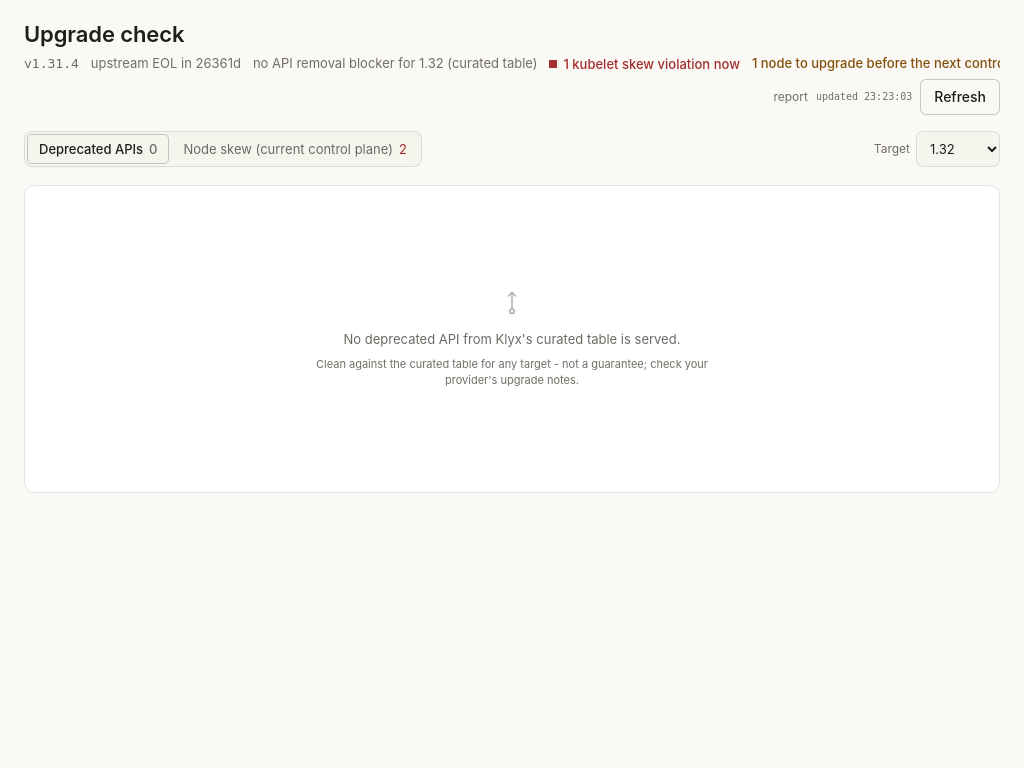
Test case: UpgradeView (redesign step 5) › skew findings list nodes, violations first, with an Open node action
The image size is (1024, 768).
expect the text "1 kubelet skew violation now" is shown: met, box top-left (564, 55), bottom-right (740, 73)
Click the button "Node skew (current control plane) 2" at (295, 149), box top-left (171, 134), bottom-right (419, 164)
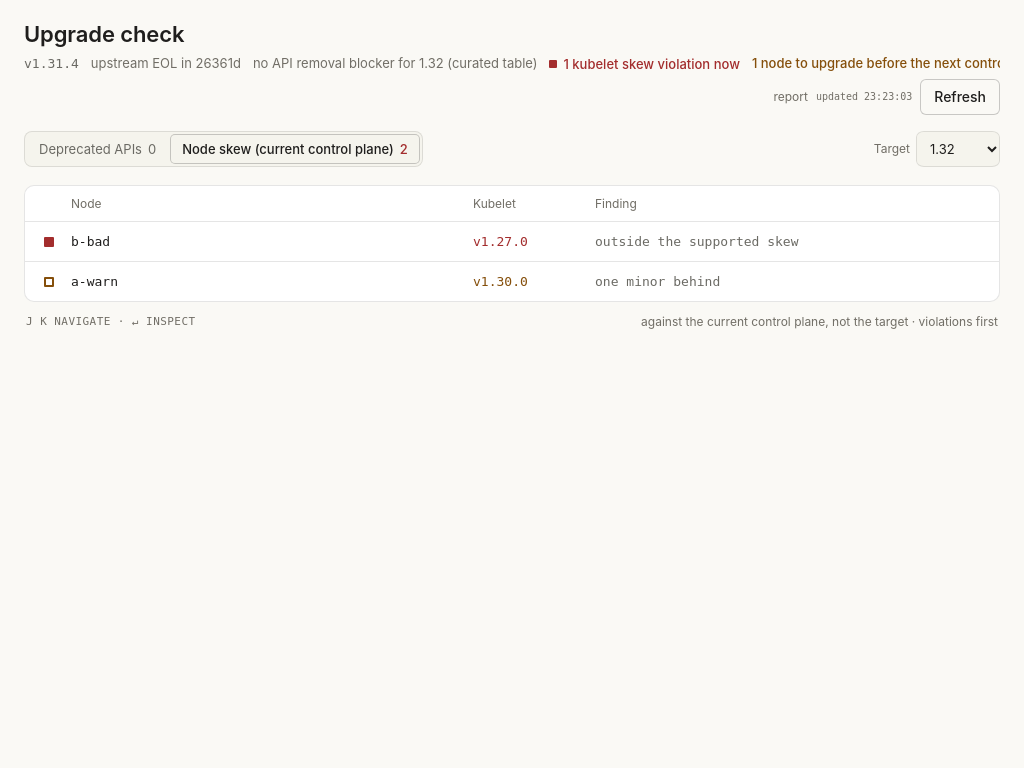
expect the button with class "lens-row" shows "b-bad": met
Click the button with class "lens-row" that starts with "b-bad" at (512, 242), box top-left (25, 222), bottom-right (999, 262)
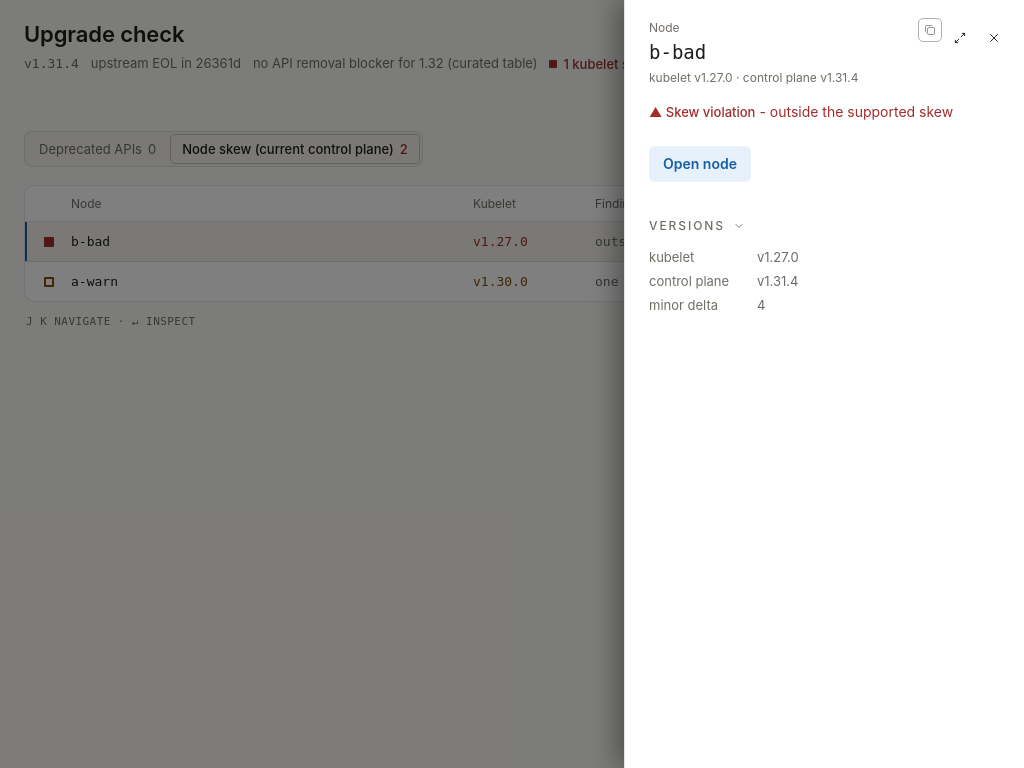
expect the button "Open node" is shown: met, box top-left (649, 146), bottom-right (751, 182)
